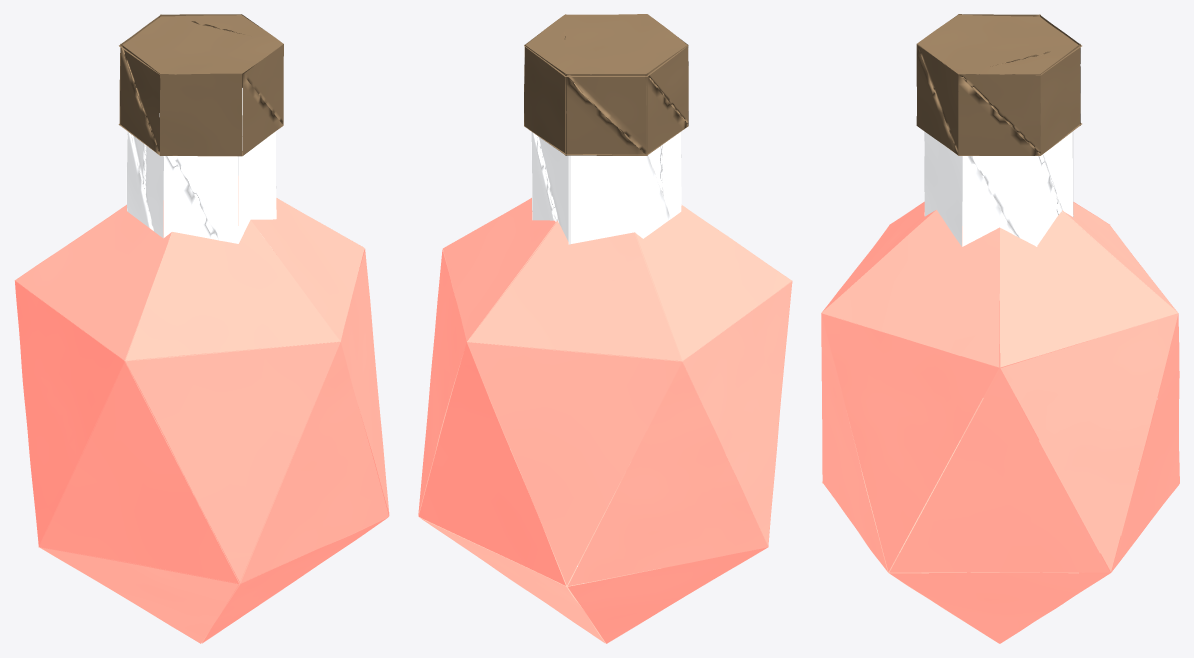
The model's file is potion_health.glb.
3 renders of one model, left to right at view 1: azimuth 30°, elevation 25°; view 2: azimuth 150°, elevation 25°; view 3: azimuth 270°, elevation 25°, orthographic.
Visible parts, largest first — view 1: PotionHealth; view 2: PotionHealth; view 3: PotionHealth.
Part boxes in pixels (x1,y1,x2,y2): PotionHealth: [14, 14, 389, 643]; PotionHealth: [418, 14, 792, 643]; PotionHealth: [821, 14, 1179, 643].
Bounding box in the file's own units: 0.5018 × 0.8824 × 0.4779.
